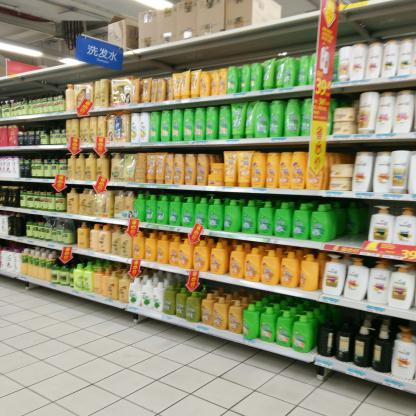Void: (336, 210, 367, 248), (334, 144, 356, 162), (337, 93, 359, 108), (210, 148, 223, 162), (213, 149, 213, 152)
